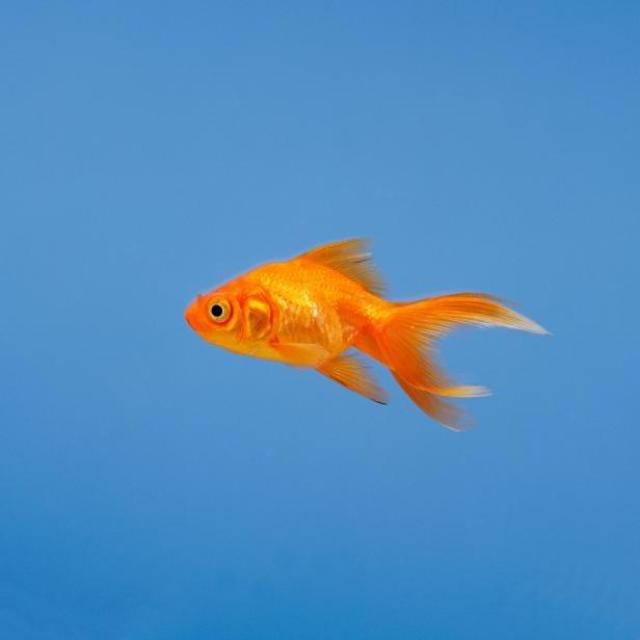GoldFish: (182, 226, 556, 432)
